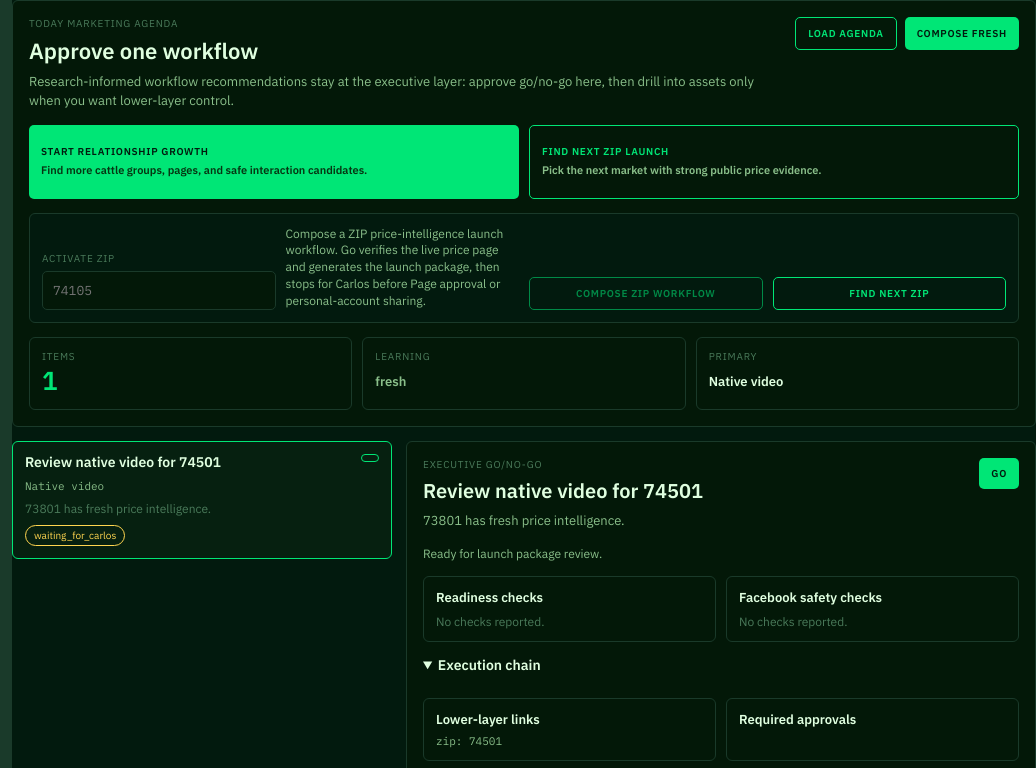
Scenario: TodayAgendaWorkspace launch package review › offers to restart the best parked ZIP launch when no new ZIP is available
Click the button "Find next ZIP launch" at {"x": 774, "y": 162}, box [529, 125, 1019, 199]
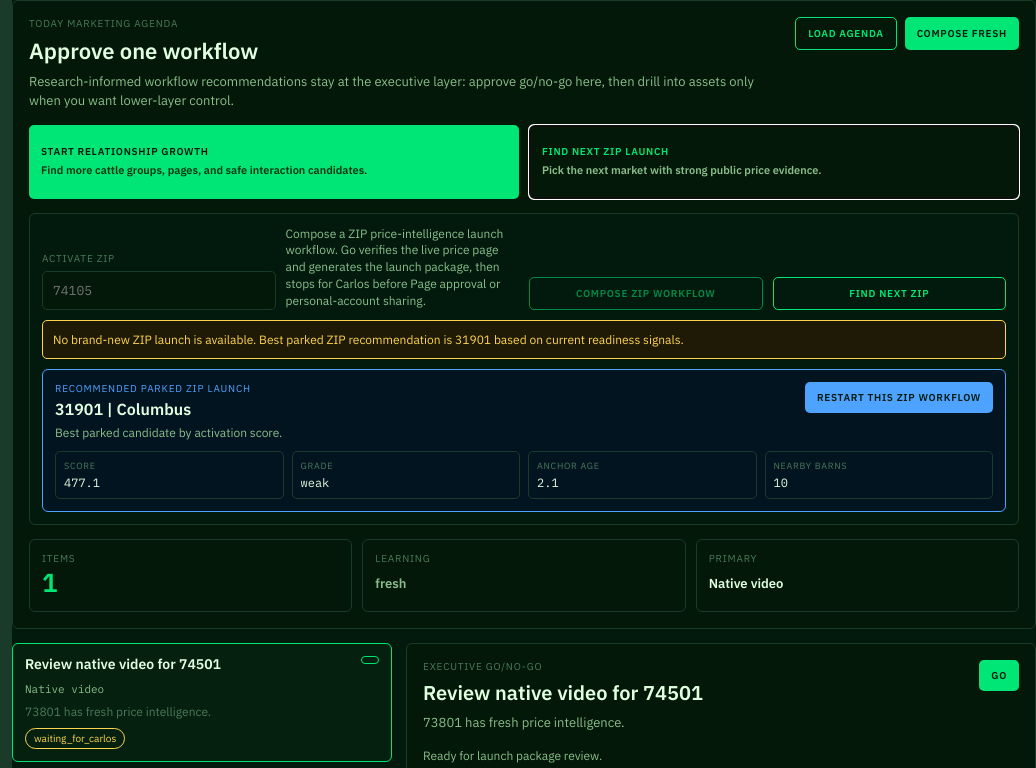
Check: the text "Recommended parked ZIP launch" is shown, box [55, 382, 282, 395]
Check: the text "31901" is shown, box [53, 332, 684, 347]
Check: the text "Best parked candidate by activation score." is shown, box [55, 424, 282, 442]
Click the button "Restart this ZIP workflow" at {"x": 899, "y": 398}, box [805, 382, 993, 413]
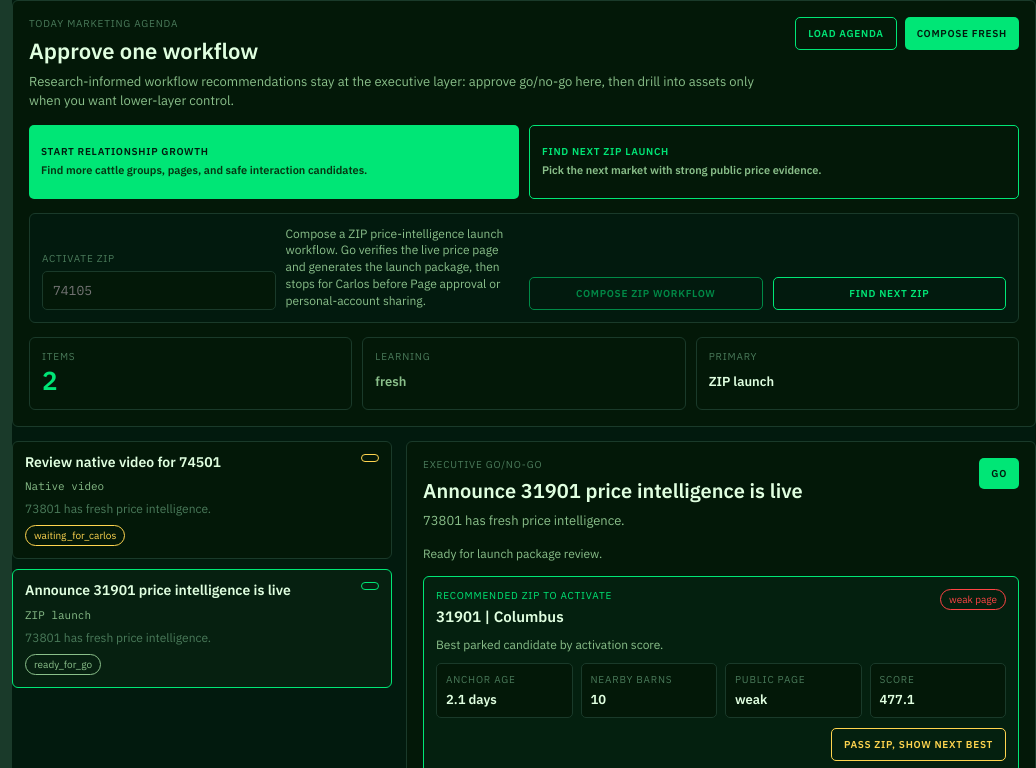
Check: the heading "Announce 31901 price intelligence is live" is shown, box [423, 477, 803, 504]
